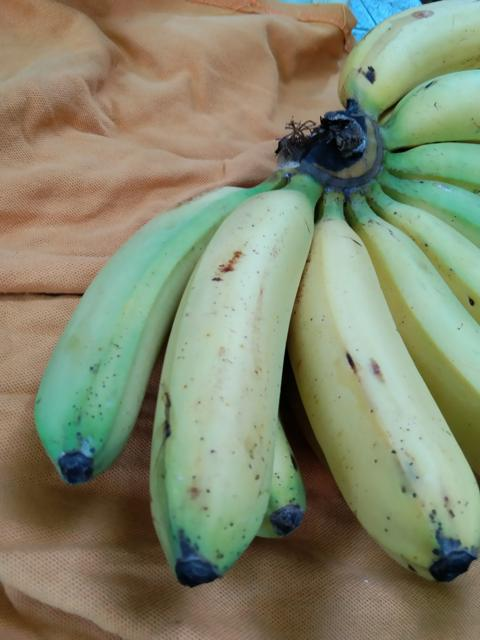freshripe: (24, 171, 218, 486)
ripe: (130, 194, 311, 594), (287, 238, 479, 592)
